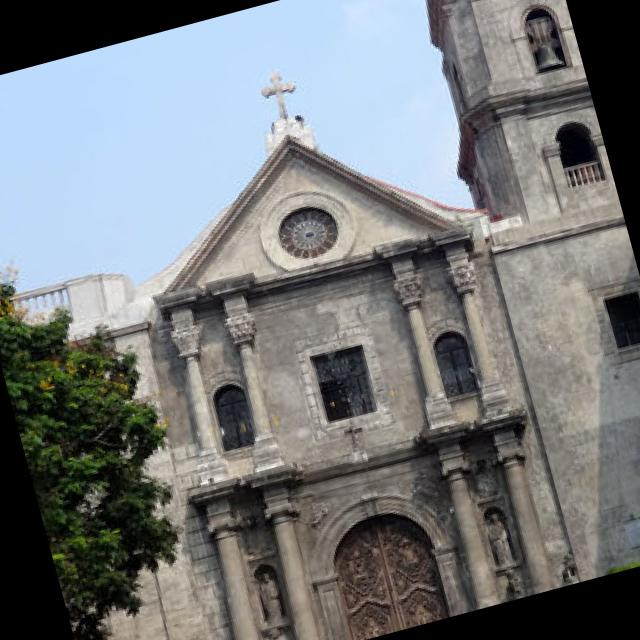San Agustin Church: (12, 0, 640, 640)
